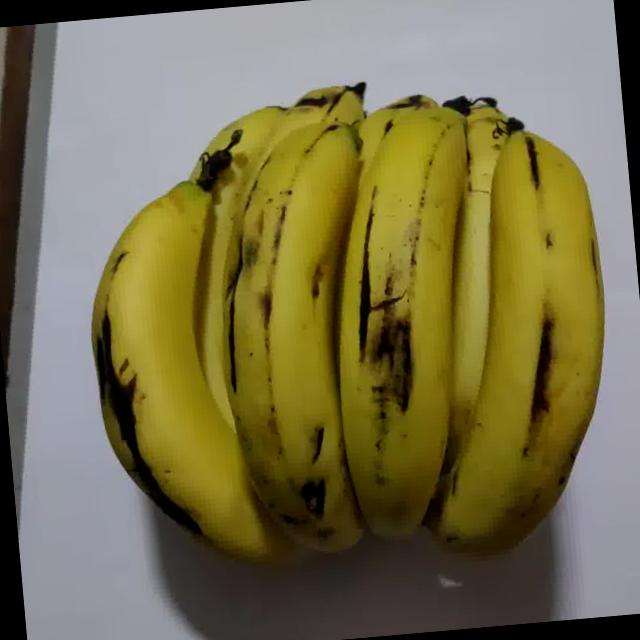banana_pacche: (39, 0, 640, 639)
